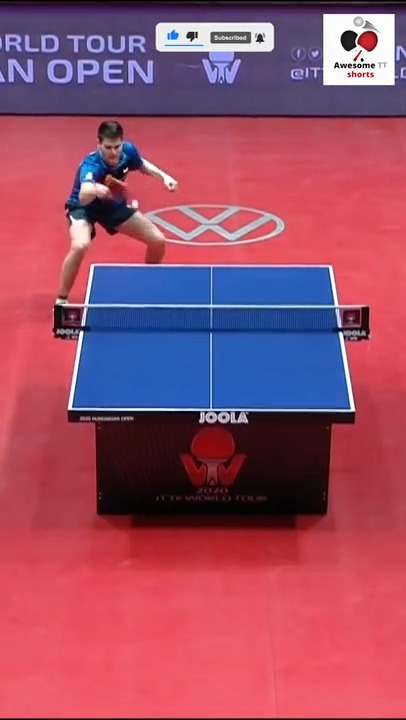Ball: (131, 200, 140, 210)
